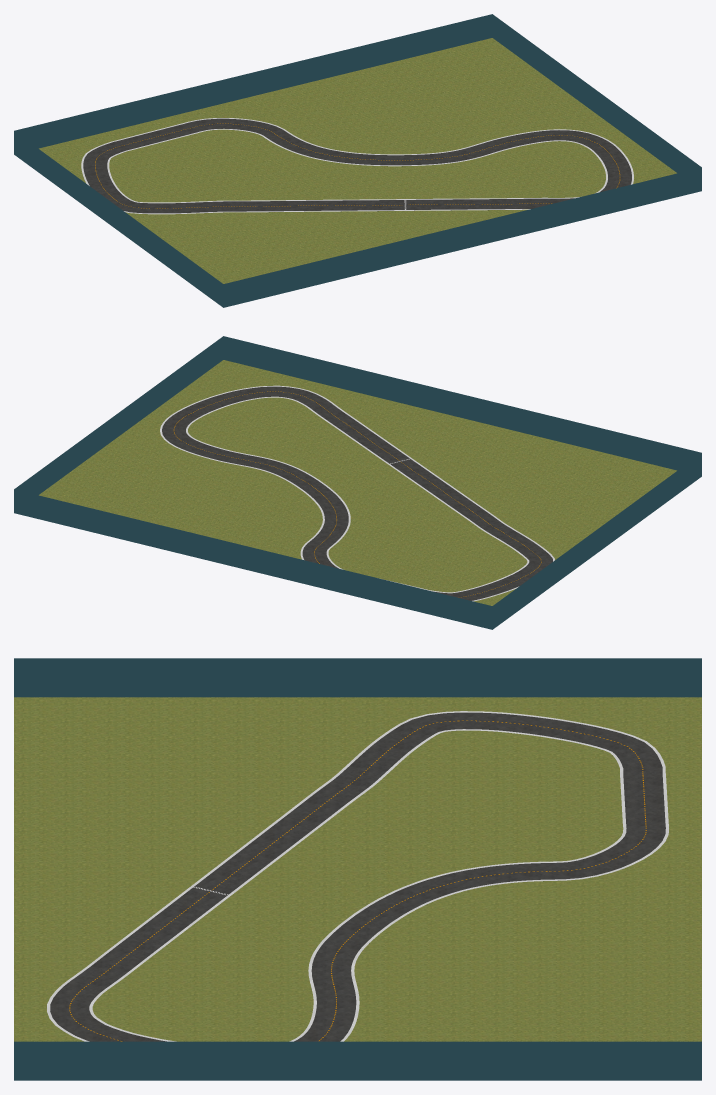
File: 2022_april_open_cw.dae
The picture shows the model from 3 angles, top to bottom: view 1: azimuth 30°, elevation 25°; view 2: azimuth 150°, elevation 25°; view 3: azimuth 270°, elevation 25°; orthographic projection. The views are drawn at different scales.
Parts seen in each view (by area): view 1: field, wall, road, il, ol, cl; view 2: field, wall, road, il, ol; view 3: field, wall, road, ol, il, cl.
Part boxes in pixels (bbox=[...]): field: bbox=[39, 38, 676, 283]; wall: bbox=[14, 14, 701, 307]; road: bbox=[83, 118, 631, 213]; il: bbox=[107, 128, 607, 203]; ol: bbox=[81, 118, 633, 214]; cl: bbox=[95, 123, 620, 208]; field: bbox=[39, 360, 676, 605]; wall: bbox=[14, 336, 701, 629]; road: bbox=[162, 386, 552, 600]; il: bbox=[186, 396, 529, 593]; ol: bbox=[160, 385, 554, 601]; field: bbox=[14, 697, 701, 1041]; wall: bbox=[14, 658, 701, 1080]; road: bbox=[50, 712, 665, 1041]; ol: bbox=[47, 711, 668, 1041]; il: bbox=[89, 729, 626, 1041]; cl: bbox=[69, 720, 646, 1041].
Size of the model in its own units: 21.06 by 15.98 by 1.
Materials: 7 (7 with a texture image).
